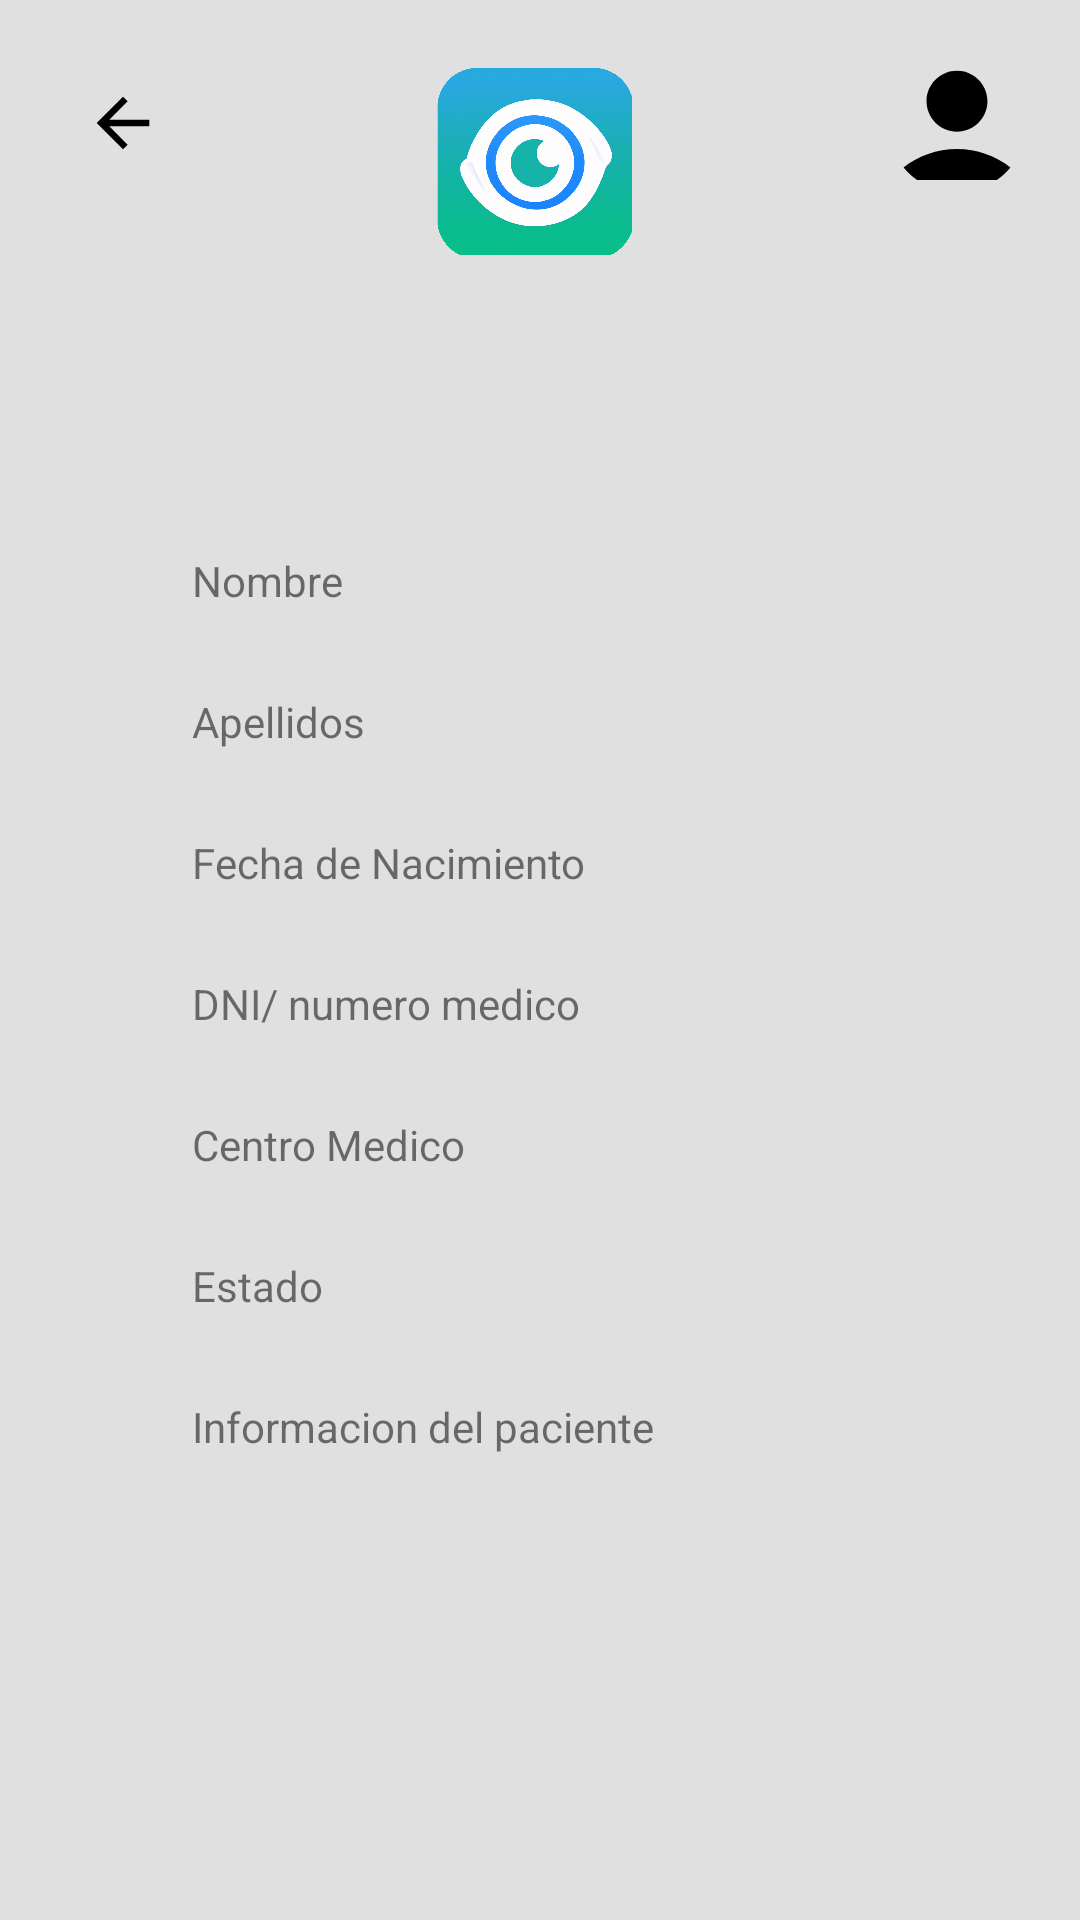

Named icons in this screenshot (1080x1920) and their centers, (x=x, y=y):
back: (x=123, y=123)
profile: (x=957, y=125)
